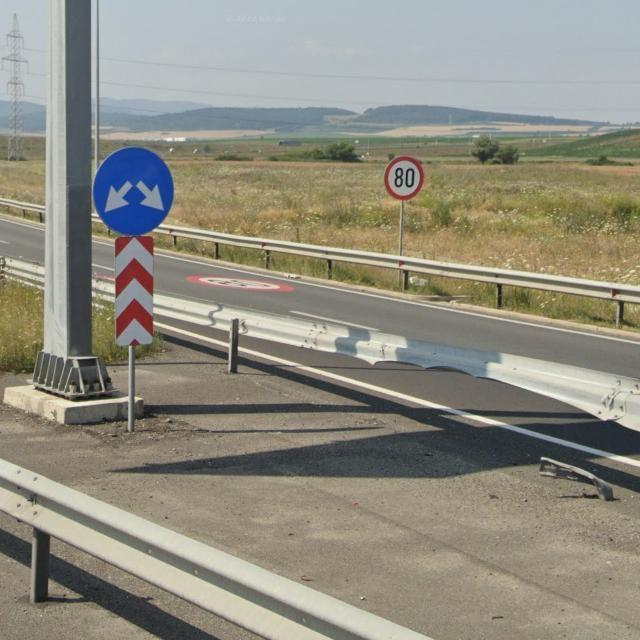forb_speed_over_80: (384, 155, 425, 200)
